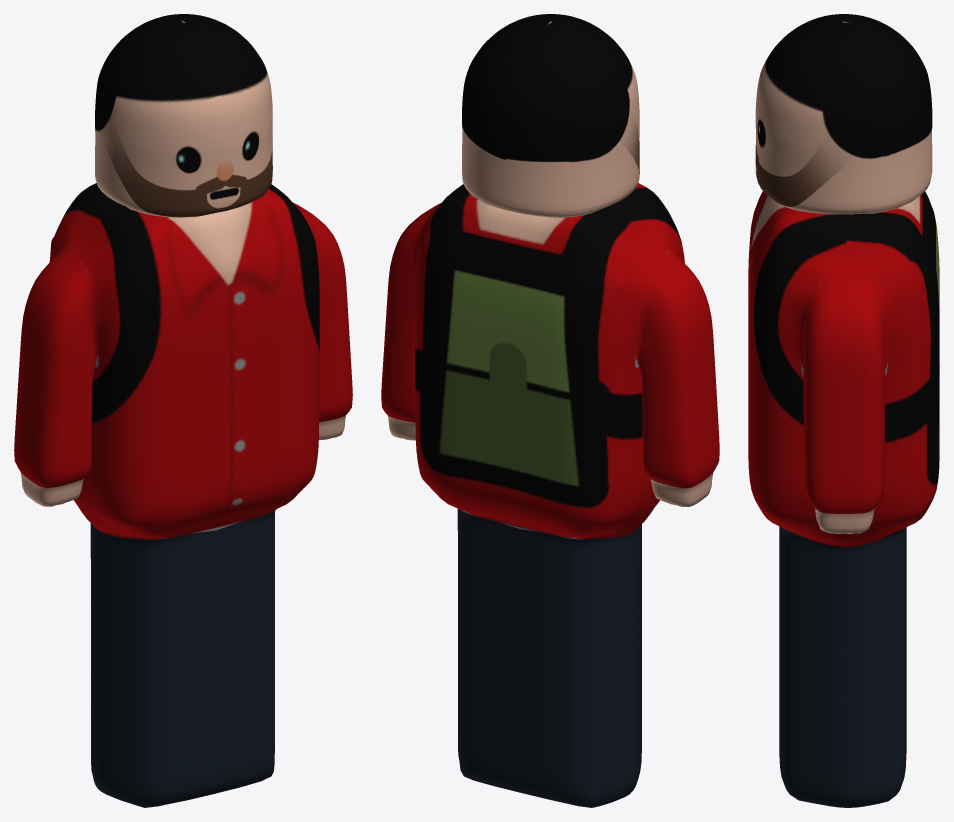
The model's file is EditedMale.fbx.
The picture shows the model from 3 angles, left to right: view 1: azimuth 30°, elevation 25°; view 2: azimuth 150°, elevation 25°; view 3: azimuth 270°, elevation 25°; orthographic projection.
Visible parts, largest first — view 1: male; view 2: male; view 3: male.
Part boxes in pixels (<box>): male: <box>14,14,352,807</box>; male: <box>381,14,719,807</box>; male: <box>748,14,939,807</box>.
Size of the model in its own units: 377 by 866 by 200.
